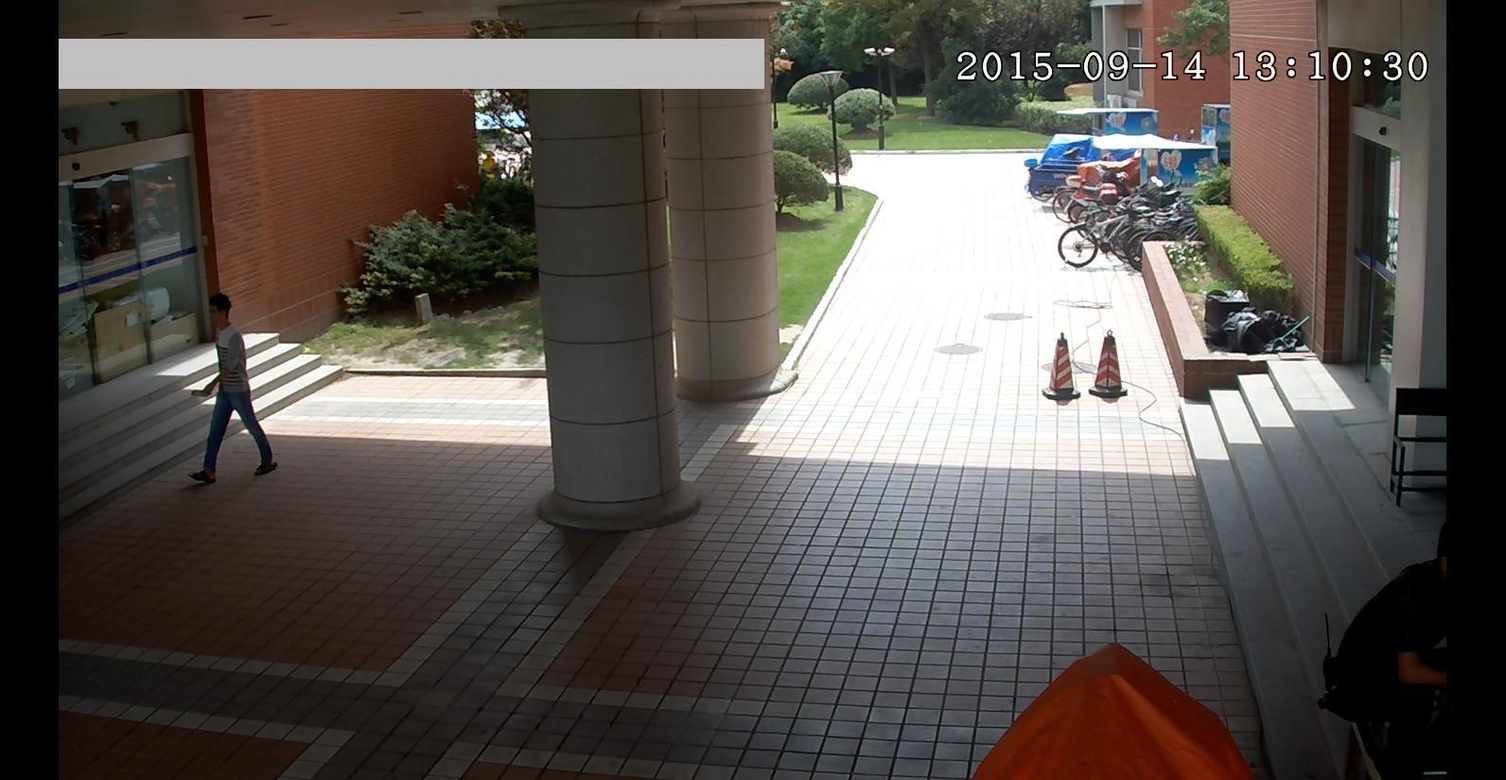person: (175, 286, 282, 493)
